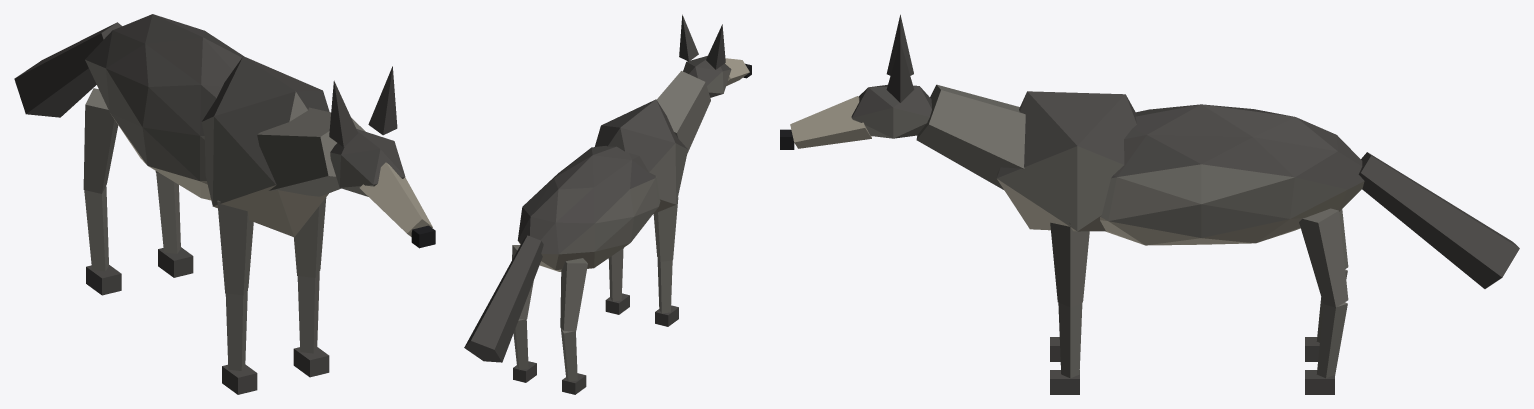
The model's file is wolf.glb.
3 views of the same model, side by side, from view 1: azimuth 30°, elevation 25°; view 2: azimuth 150°, elevation 25°; view 3: azimuth 270°, elevation 25° (orthographic). The views are drawn at different scales.
Parts seen in each view (by area): view 1: wolf; view 2: wolf; view 3: wolf.
Part boxes in pixels (box(x1,y1,x2,y2)): wolf: box(14, 14, 435, 394); wolf: box(464, 14, 751, 394); wolf: box(780, 14, 1519, 394).
Bounding box in the file's own units: 0.3797 × 1.08 × 2.09.
